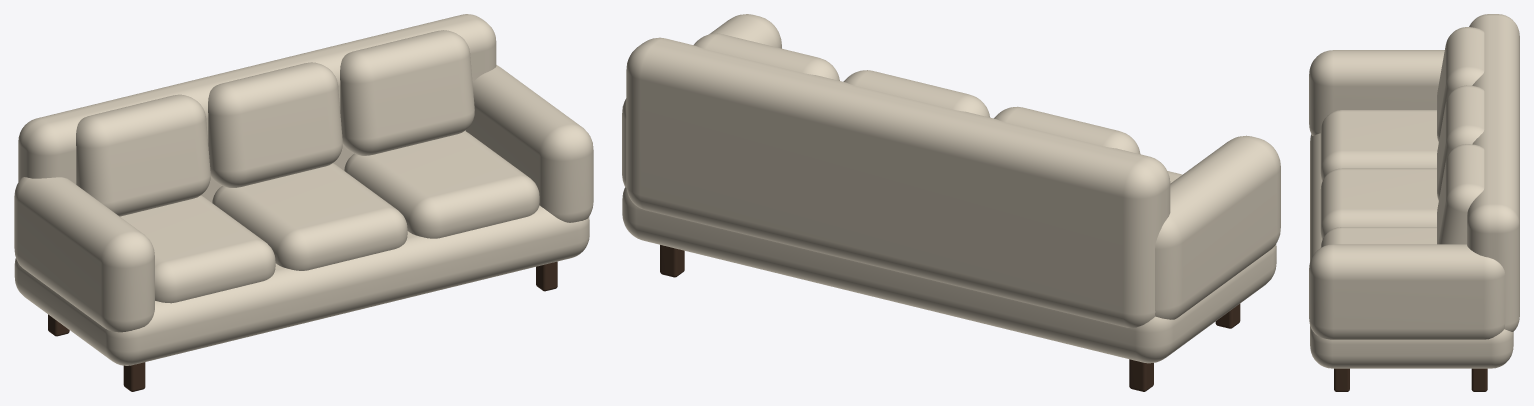
Rendered from sofa_no_pillows_ivory.glb.
3 views of the same model, side by side, from view 1: azimuth 30°, elevation 25°; view 2: azimuth 150°, elevation 25°; view 3: azimuth 270°, elevation 25° (orthographic). The views are drawn at different scales.
Visible parts, largest first — view 1: Upholstered foundation, Rounded padded arm, Plush back cushion.002, Plush back cushion.001, Plush back cushion, Seat cushion.002, Seat cushion.001, Rounded padded arm.001, Padded back frame, Seat cushion, Walnut foot, Walnut foot.002; view 2: Padded back frame, Upholstered foundation, Rounded padded arm, Plush back cushion.001, Plush back cushion.002, Plush back cushion, Rounded padded arm.001, Walnut foot.001, Walnut foot.003; view 3: Rounded padded arm.001, Padded back frame, Rounded padded arm, Upholstered foundation, Seat cushion, Seat cushion.001, Plush back cushion.002, Plush back cushion.001, Plush back cushion, Seat cushion.002, Walnut foot.003, Walnut foot.002.
Part boxes in pixels (x1,y1,x2,y2): Upholstered foundation: (14,205,589,365); Rounded padded arm: (14,177,154,332); Plush back cushion.002: (340,30,474,155); Plush back cushion.001: (208,62,342,187); Plush back cushion: (76,94,210,216); Seat cushion.002: (344,131,539,238); Seat cushion.001: (212,163,407,270); Rounded padded arm.001: (466,65,593,222); Padded back frame: (18,14,496,202); Seat cushion: (120,195,275,303); Walnut foot: (123,362,145,391); Walnut foot.002: (536,261,557,291); Padded back frame: (626,37,1170,328); Upholstered foundation: (622,187,1276,363); Rounded padded arm: (1155,135,1280,319); Plush back cushion.001: (843,70,990,117); Plush back cushion.002: (693,33,839,80); Plush back cushion: (994,106,1140,154); Rounded padded arm.001: (622,14,781,187); Walnut foot.001: (1129,359,1153,391); Walnut foot.003: (660,245,684,277); Rounded padded arm.001: (1309,244,1505,339); Padded back frame: (1467,14,1519,331); Rounded padded arm: (1309,50,1444,135); Upholstered foundation: (1310,133,1513,368); Seat cushion: (1320,110,1438,181); Seat cushion.001: (1320,168,1438,239); Plush back cushion.002: (1437,144,1484,244); Plush back cushion.001: (1437,85,1484,200); Plush back cushion: (1437,27,1484,142); Seat cushion.002: (1320,227,1436,247); Walnut foot.003: (1471,368,1487,391); Walnut foot.002: (1334,368,1349,391).
Size of the model in its own units: 2.42 by 0.9999 by 0.995.
